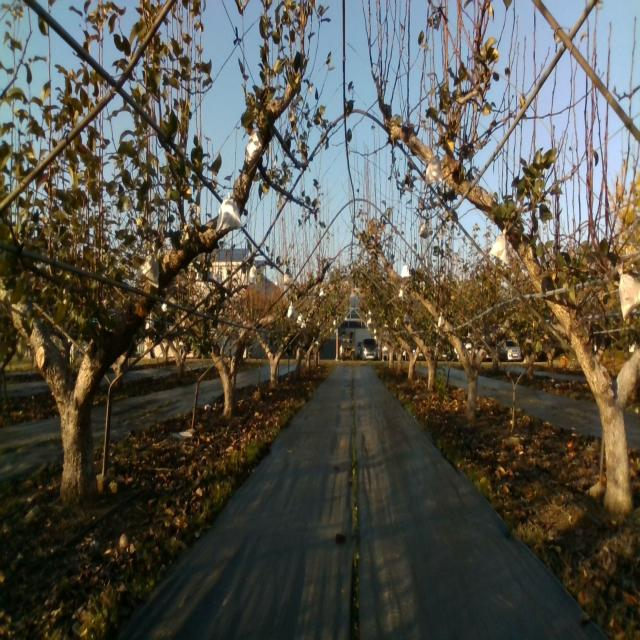pearbags: (616, 266, 640, 322), (216, 192, 243, 236), (141, 250, 161, 290), (490, 228, 510, 266), (245, 131, 263, 165), (424, 155, 443, 187)
